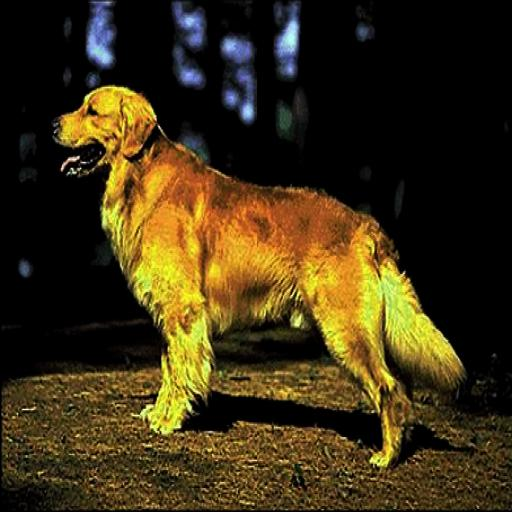dog_face: (50, 81, 144, 181)
